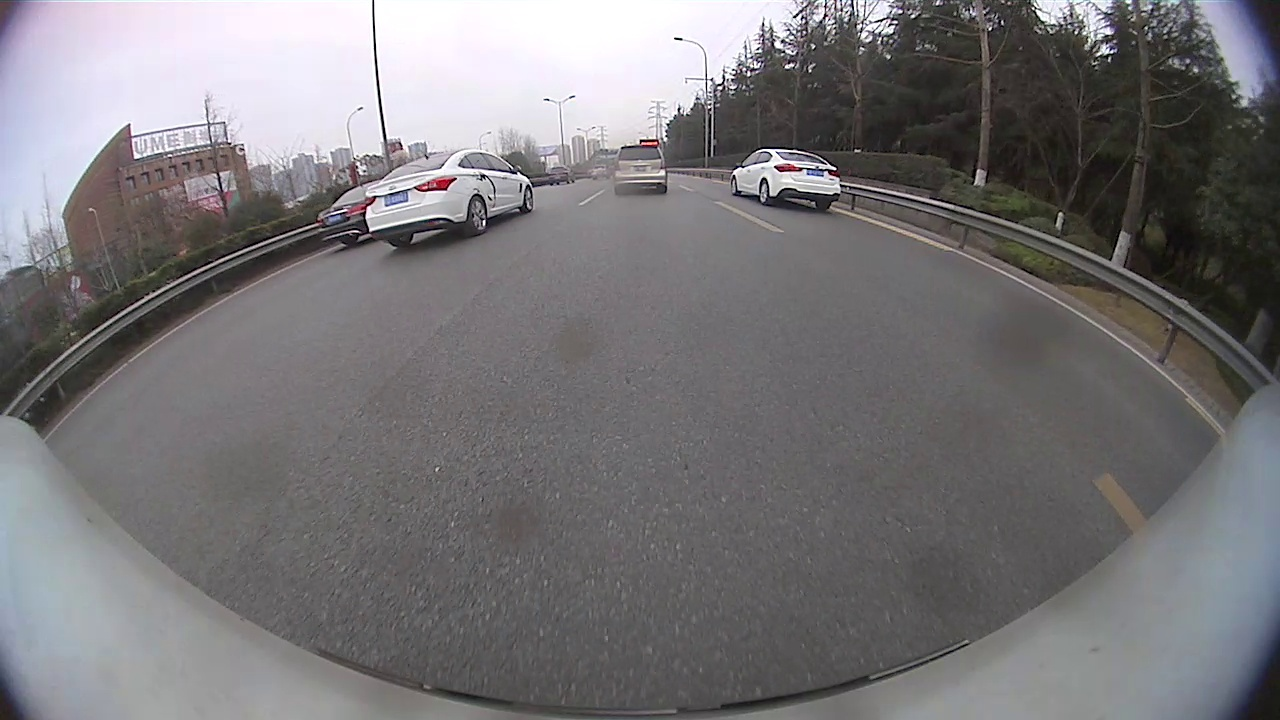car: (363, 148, 536, 248), (728, 145, 843, 212), (315, 181, 386, 245), (611, 145, 670, 195), (549, 164, 575, 185)
front: (523, 187, 536, 213), (729, 179, 737, 197)
rear: (467, 197, 488, 235), (758, 183, 771, 206)
